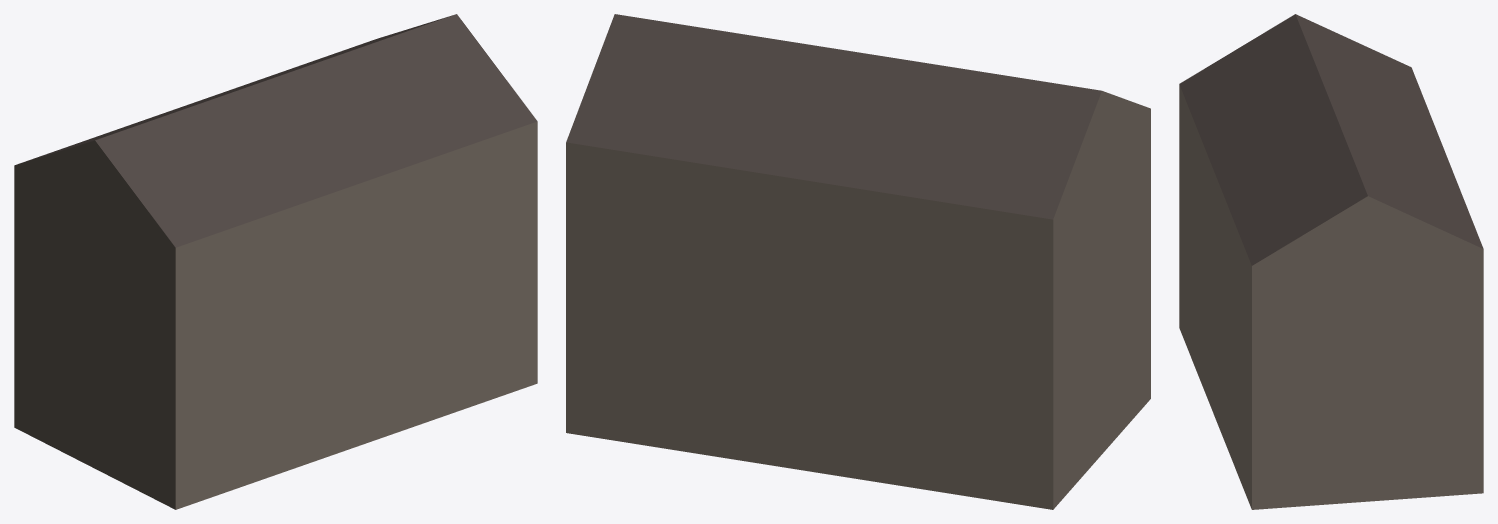
The picture shows the model from 3 angles, left to right: view 1: azimuth 30°, elevation 25°; view 2: azimuth 150°, elevation 25°; view 3: azimuth 270°, elevation 25°; orthographic projection. The views are drawn at different scales.
Parts seen in each view (by area): view 1: HP-w1424106447; view 2: HP-w1424106447; view 3: HP-w1424106447.
Boxes of the visible parts, x1,y1,x2,y2 form: HP-w1424106447: (14, 14, 537, 509); HP-w1424106447: (566, 14, 1150, 509); HP-w1424106447: (1179, 14, 1483, 509).
Bounding box in the file's own units: 10.48 × 7.52 × 6.79.
